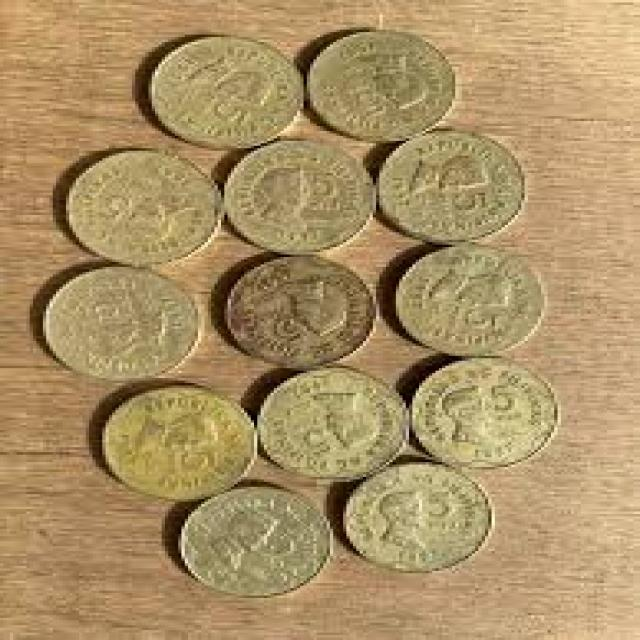5 peso-old: (143, 23, 314, 150), (101, 383, 255, 501), (44, 266, 200, 382), (66, 149, 218, 266), (394, 243, 547, 357), (179, 484, 332, 598), (377, 130, 527, 244), (259, 367, 407, 482), (410, 356, 560, 469), (223, 139, 371, 253), (225, 254, 373, 368), (344, 461, 494, 573), (306, 29, 454, 141)
